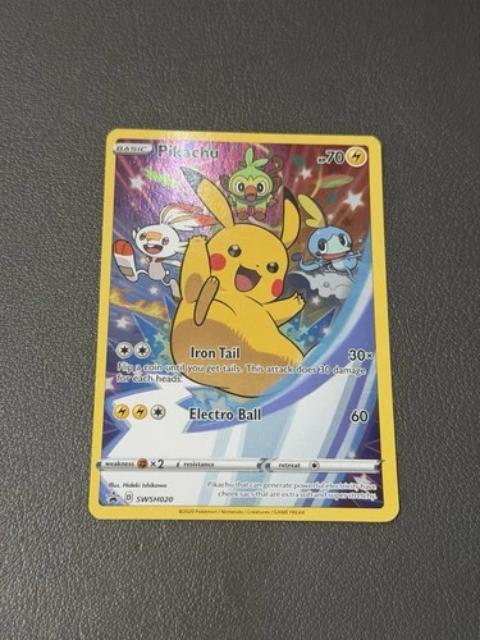Card: (83, 124, 404, 524)
Name: (182, 397, 266, 420), (151, 138, 220, 163)
